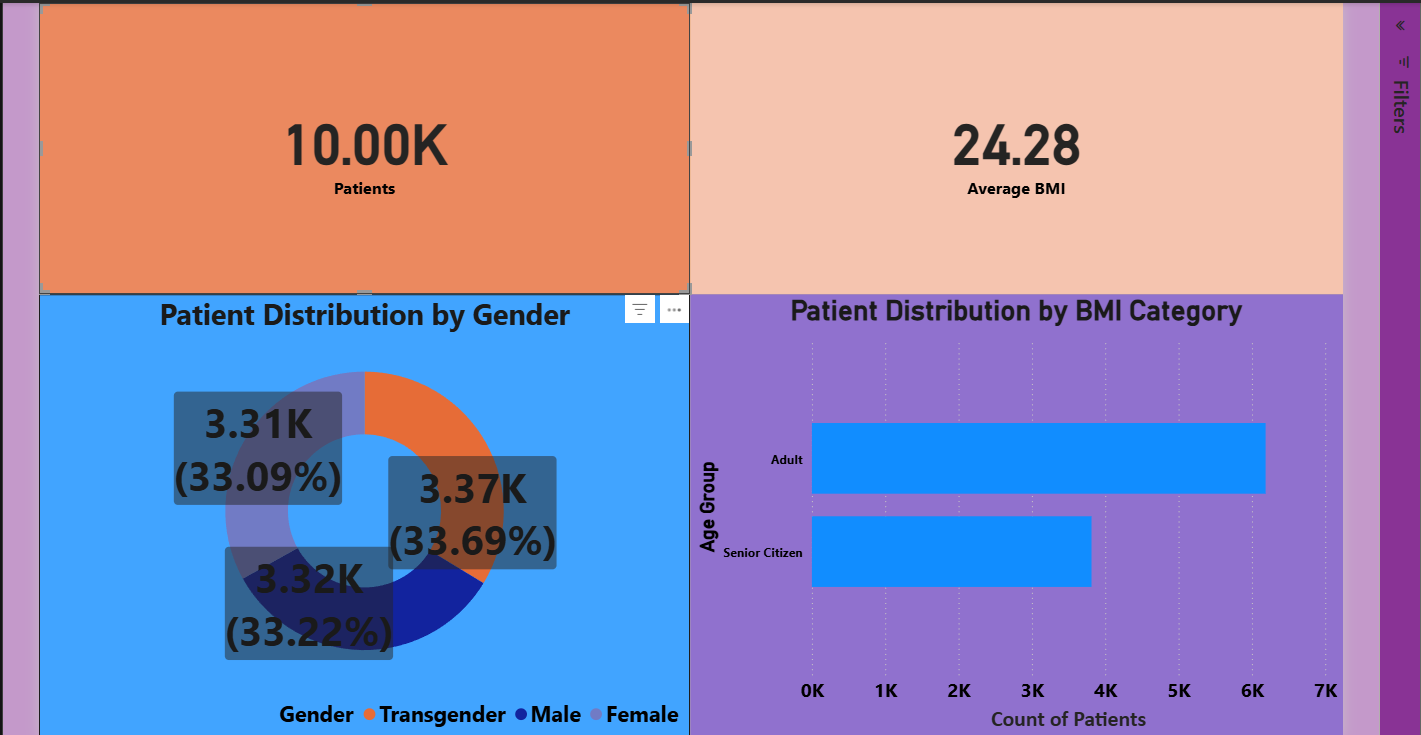

The page's visual inventory and layout, read from the dashboard file:
{"tool":"powerbi","page":{"name":"Page 1","canvas":[1280,720],"ordinal":0},"visuals":[{"type":"card","fields":{"Values":["Count(hospital_analytics hospital_raw.patient_id)"]},"box":[0,0,639.5,285.4],"z":0},{"type":"card","fields":{"Values":["Avg(hospital_analytics hospital_raw.bmi)"]},"box":[639.5,0,640.8,285.4],"z":1000},{"type":"donutChart","fields":{"Category":["hospital_analytics hospital_raw.gender"],"Y":["CountNonNull(hospital_analytics hospital_raw.patient_id)"]},"box":[0,285.4,639.5,435],"z":2000},{"type":"barChart","title":"Count of Patients  By Age Group","fields":{"Category":["hospital_analytics hospital_raw.age_group"],"Y":["CountNonNull(hospital_analytics hospital_raw.patient_id)"]},"box":[639.3,285.9,640.5,434.4],"z":3000}]}

Visuals, with their boxes on the page's 1280x720 design canvas (x1, y1, x2, y2). These are canvas units, not pixel positions in the 1421x735 screenshot, which may show the page scaled, cropped or inside an application window:
card - Count(hospital_analytics hospital_raw.patient_id): <box>0,0,640,285</box>
card - Avg(hospital_analytics hospital_raw.bmi): <box>640,0,1280,285</box>
donutChart - hospital_analytics hospital_raw.gender x CountNonNull(hospital_analytics hospital_raw.patient_id): <box>0,285,640,720</box>
"Count of Patients  By Age Group" barChart: <box>639,286,1280,720</box>
